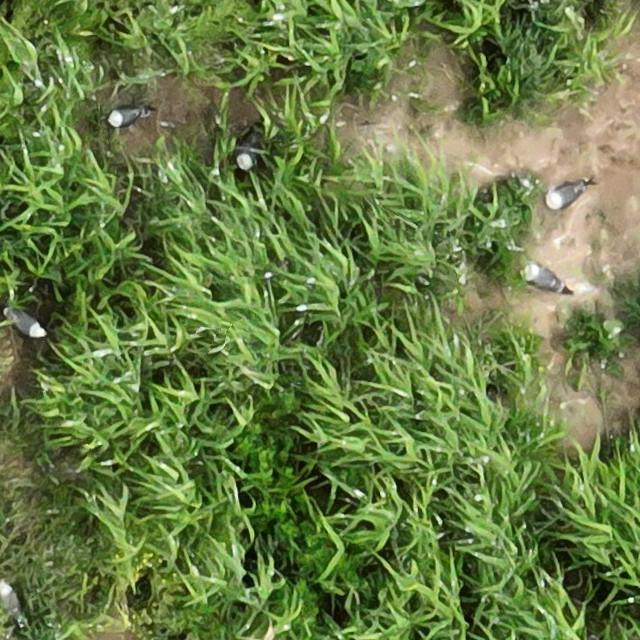umineko: (236, 128, 264, 171), (11, 311, 45, 335), (530, 267, 564, 291), (549, 185, 581, 208), (110, 109, 143, 128), (2, 584, 20, 615)
